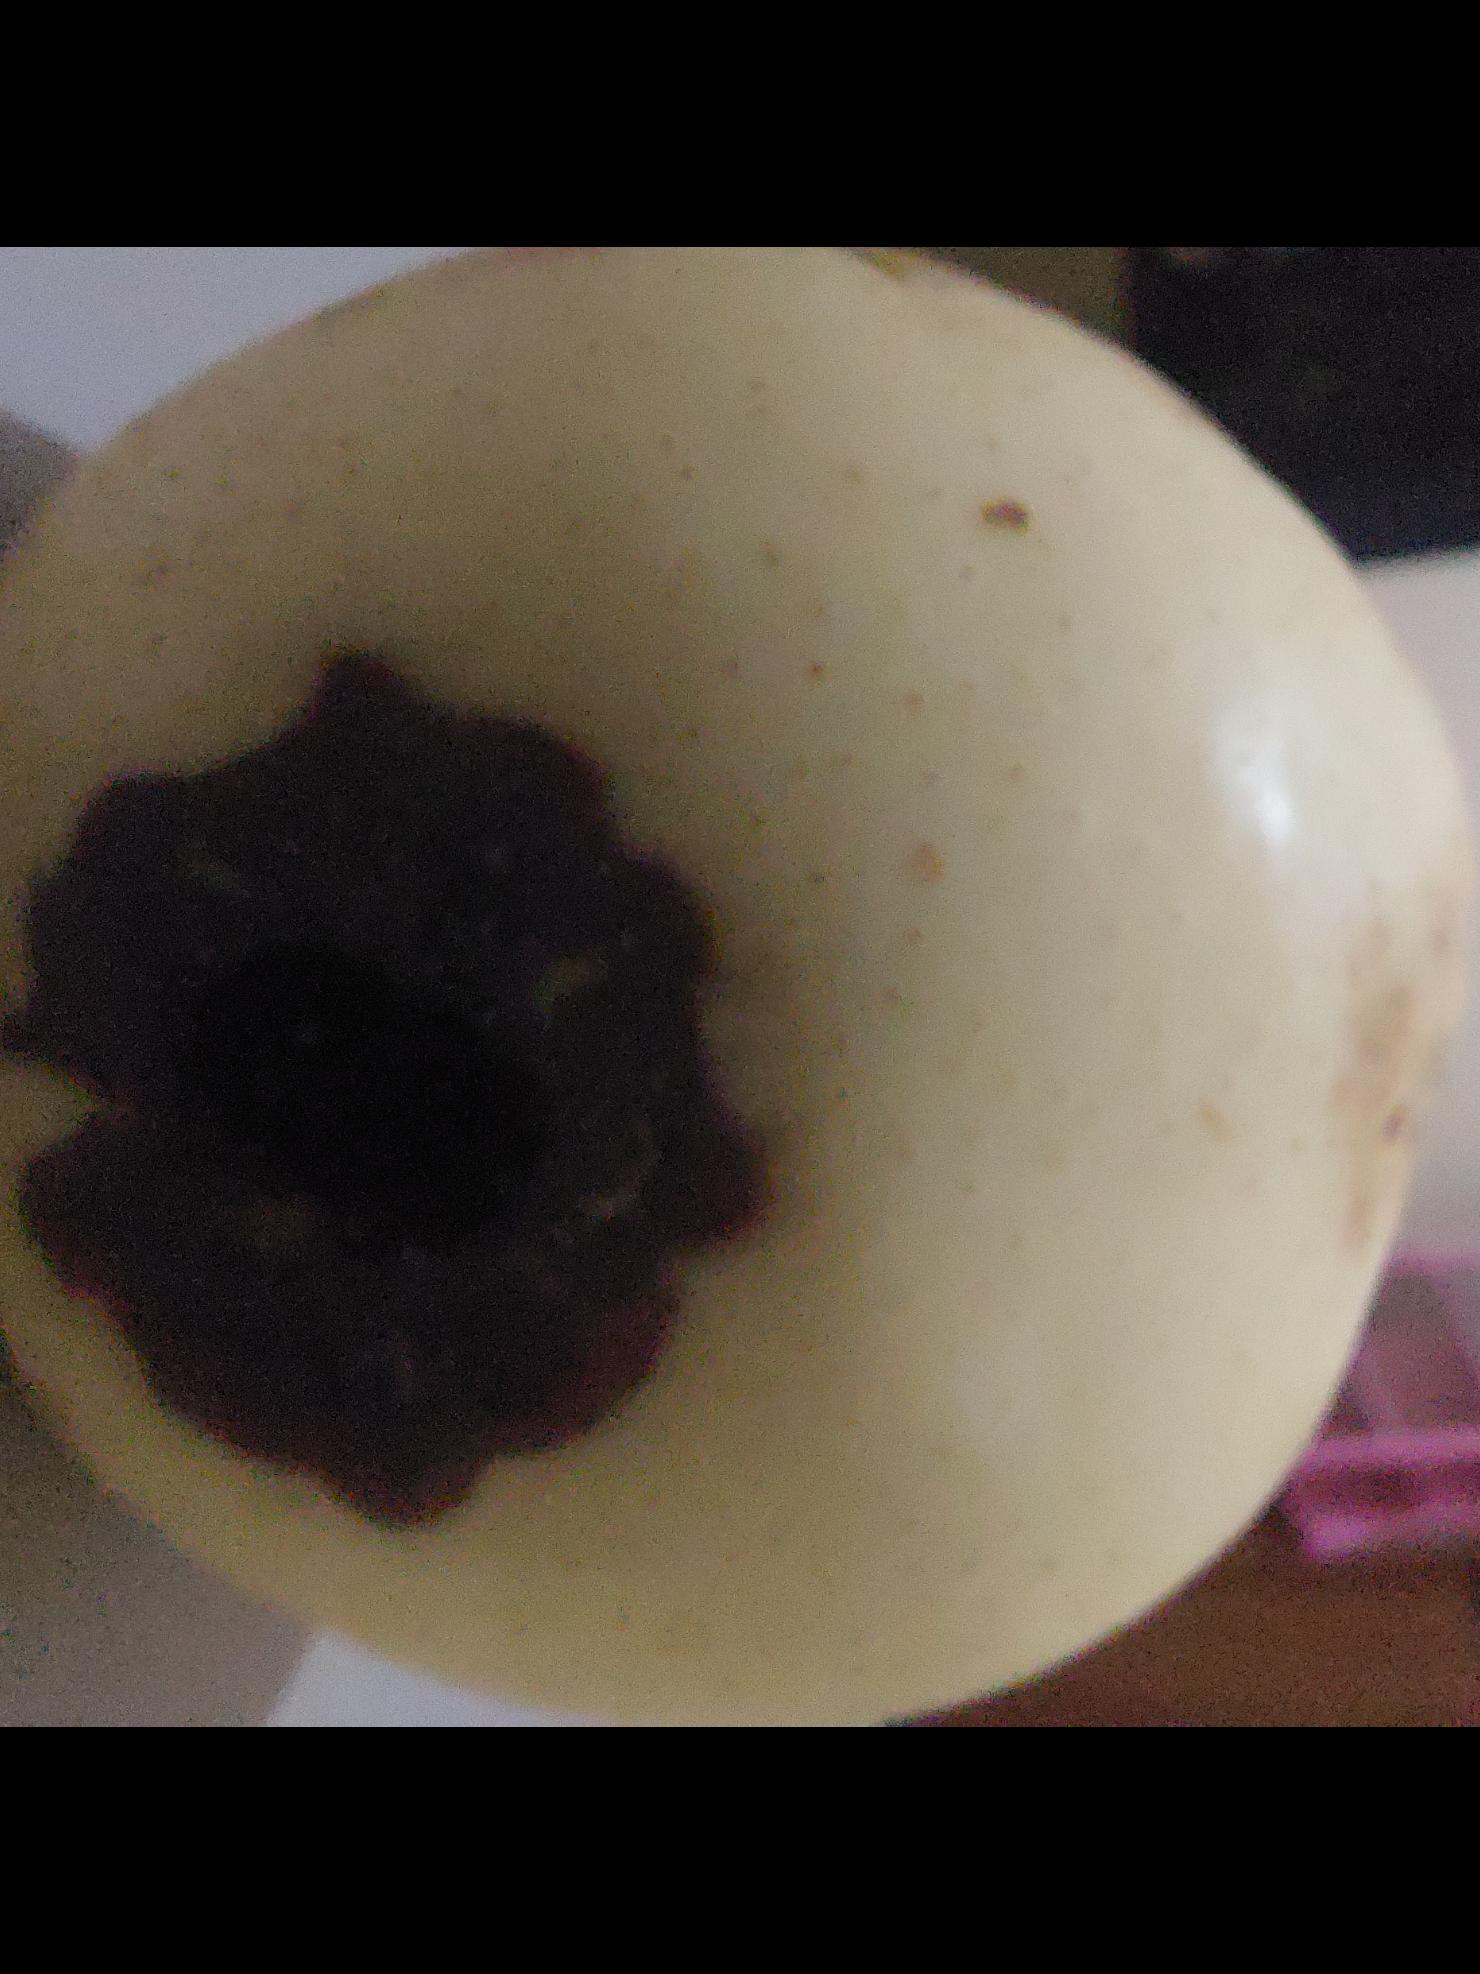Bad Pear: (0, 247, 1475, 1727)
